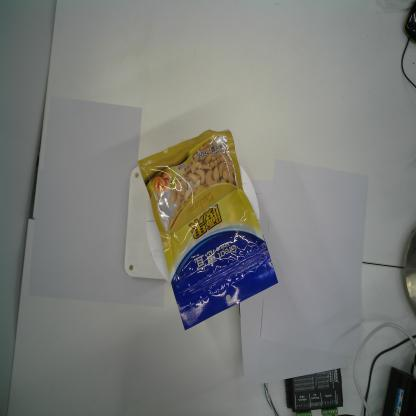Dried Fruit: (136, 129, 278, 331)
